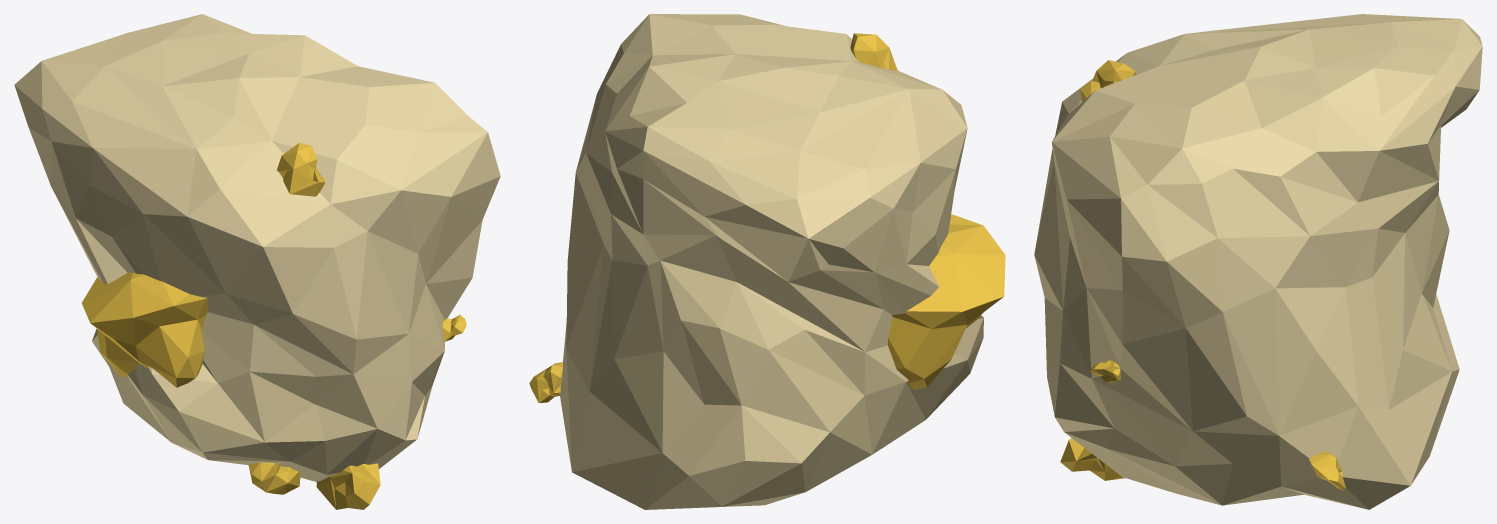
The model's file is MetalOre (29).fbx.
3 views of the same model, side by side, from view 1: azimuth 30°, elevation 25°; view 2: azimuth 150°, elevation 25°; view 3: azimuth 270°, elevation 25° (orthographic). The views are drawn at different scales.
Visible parts, largest first — view 1: Asteroid384; view 2: Asteroid384; view 3: Asteroid384.
Boxes of the visible parts, bbox=[...] form: Asteroid384: bbox=[14, 14, 500, 509]; Asteroid384: bbox=[529, 14, 1005, 509]; Asteroid384: bbox=[1034, 14, 1482, 509].
Size of the model in its own units: 571 by 552 by 541.
